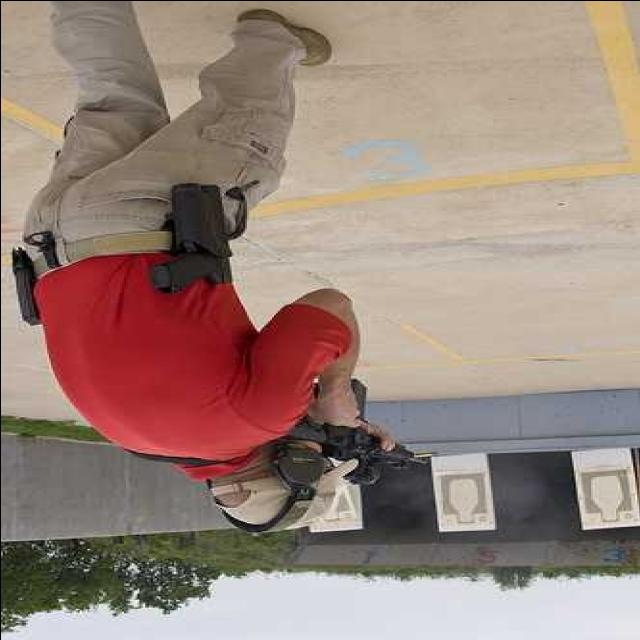heavyweapon: (245, 349, 459, 511)
